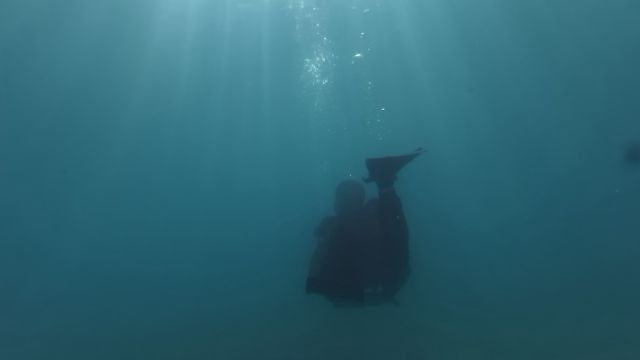Diver: (291, 146, 448, 323)
